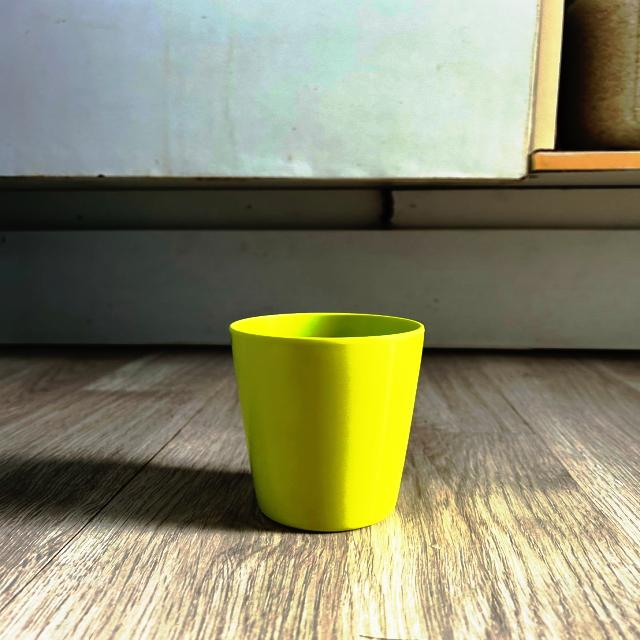WaterGlass: (230, 313, 424, 531)
